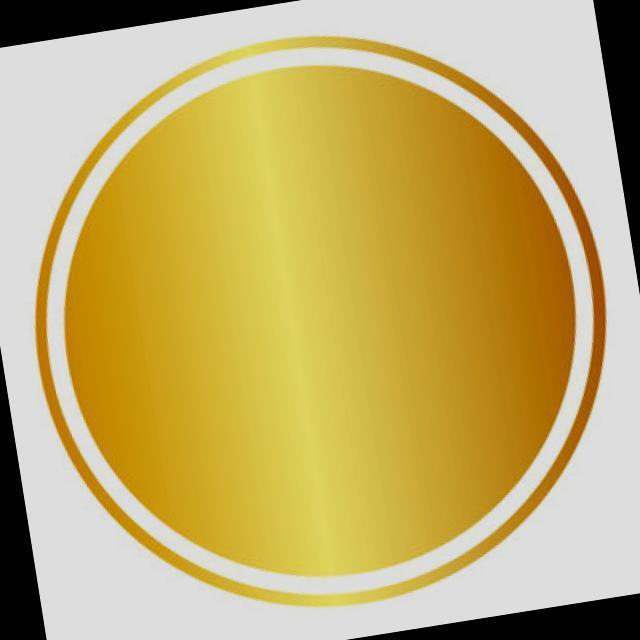Circle: (29, 31, 608, 612)
